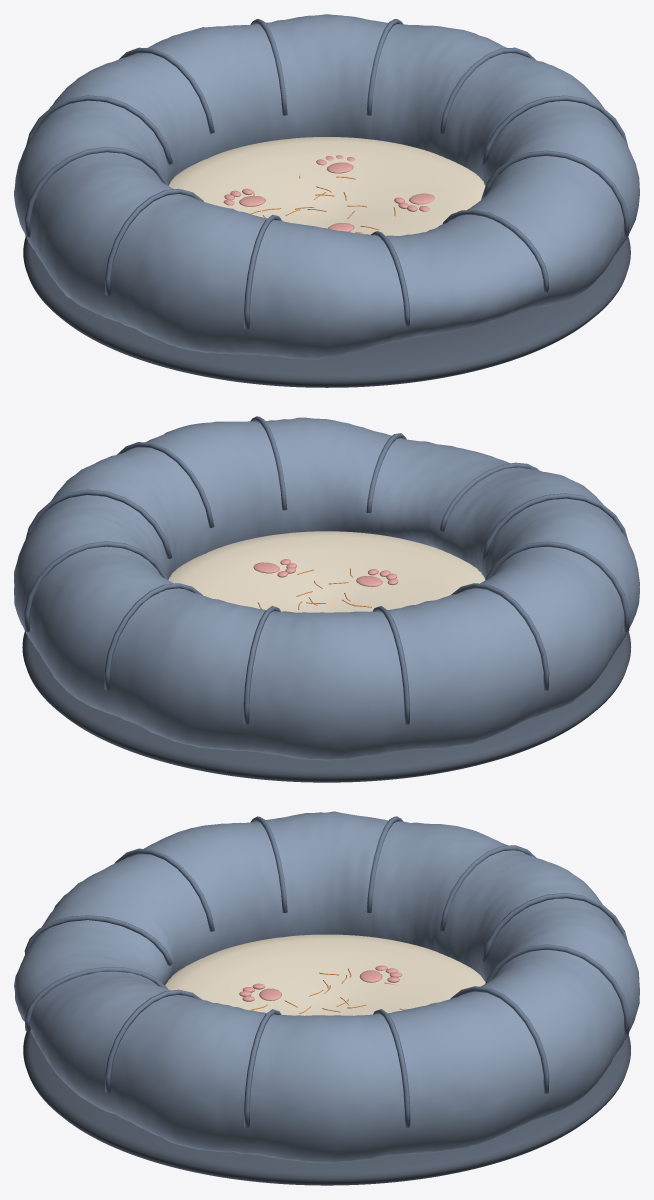
Rendered from catstuff-catbed.glb.
3 views of the same model, one above another, from view 1: azimuth 30°, elevation 25°; view 2: azimuth 150°, elevation 25°; view 3: azimuth 270°, elevation 25° (orthographic).
Parts seen in each view (by area): view 1: CatBed__Bolster, CatBed__Base, CatBed__Cushion, CatBed__BolsterSeams, CatBed__PawPrints; view 2: CatBed__Bolster, CatBed__Cushion, CatBed__Base, CatBed__BolsterSeams, CatBed__PawPrints; view 3: CatBed__Bolster, CatBed__Cushion, CatBed__Base, CatBed__BolsterSeams, CatBed__PawPrints.
Part boxes in pixels (x1,y1,x2,y2): CatBed__Bolster: (14, 14, 639, 359); CatBed__Base: (23, 236, 630, 387); CatBed__Cushion: (169, 137, 485, 235); CatBed__BolsterSeams: (24, 19, 629, 329); CatBed__PawPrints: (223, 155, 434, 234); CatBed__Bolster: (14, 417, 639, 760); CatBed__Cushion: (168, 531, 485, 612); CatBed__Base: (22, 631, 631, 782); CatBed__BolsterSeams: (24, 416, 629, 724); CatBed__PawPrints: (253, 559, 398, 586); CatBed__Bolster: (14, 811, 639, 1163); CatBed__Cushion: (165, 934, 485, 1015); CatBed__Base: (23, 1031, 630, 1185); CatBed__BolsterSeams: (24, 816, 629, 1127); CatBed__PawPrints: (239, 965, 401, 1001).
Size of the model in its own units: 98.18 by 25.07 by 98.17.
